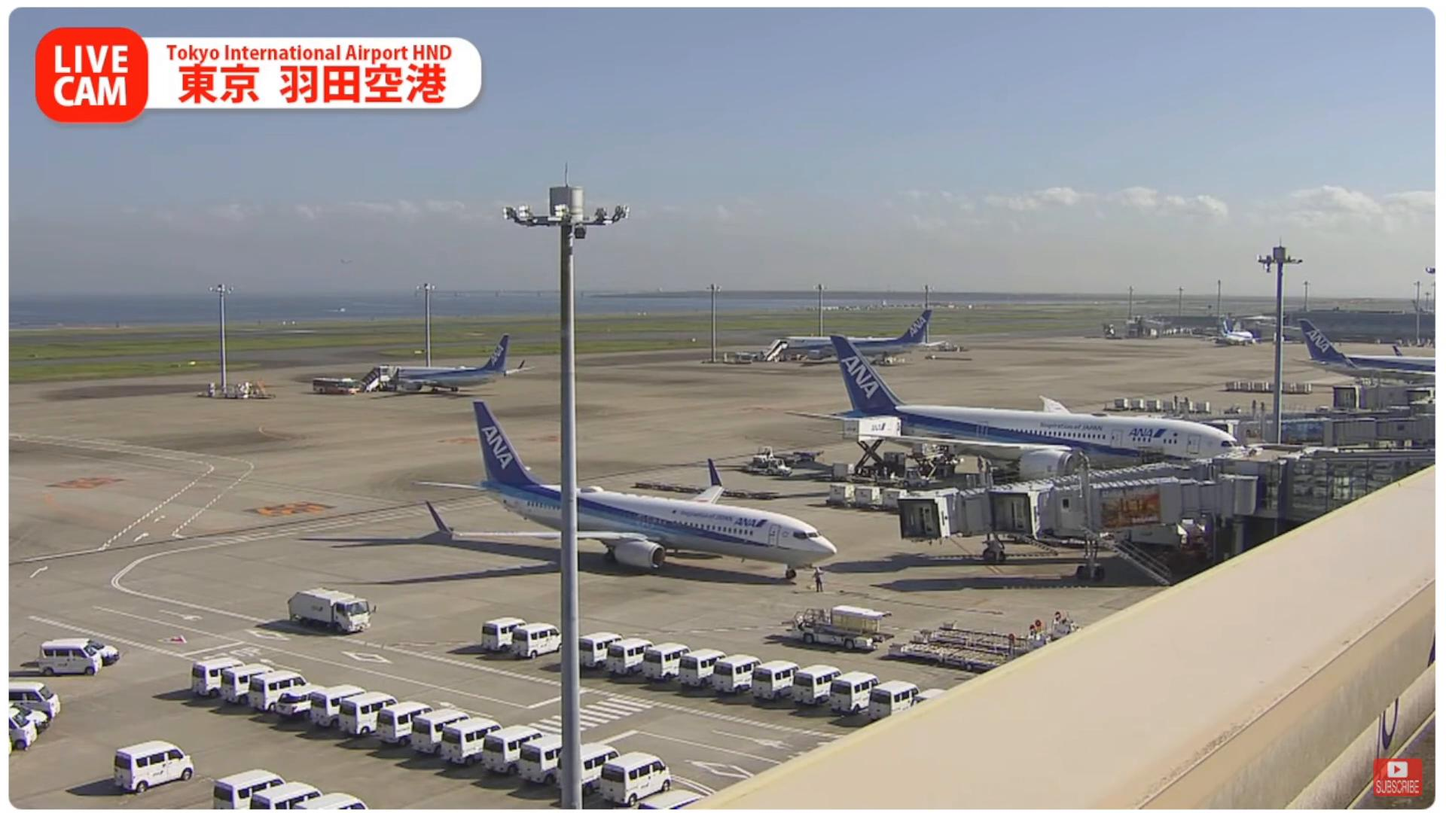Aerobridge: (899, 460, 1217, 539), (991, 451, 1256, 537)
Airplane: (421, 404, 840, 583)
Baggage truck: (285, 584, 372, 635)
JCPL: (918, 616, 1075, 656), (890, 639, 1018, 670)
Skyloader: (780, 603, 894, 653)
Window: (1290, 445, 1435, 519)
